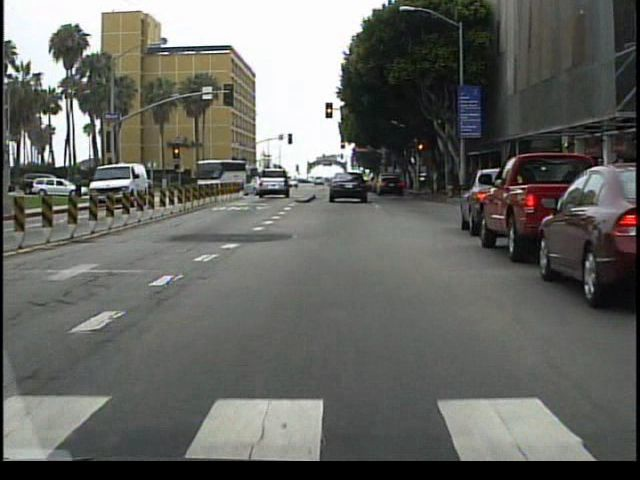person: (92, 173, 105, 207), (75, 168, 88, 198), (95, 172, 96, 203)
